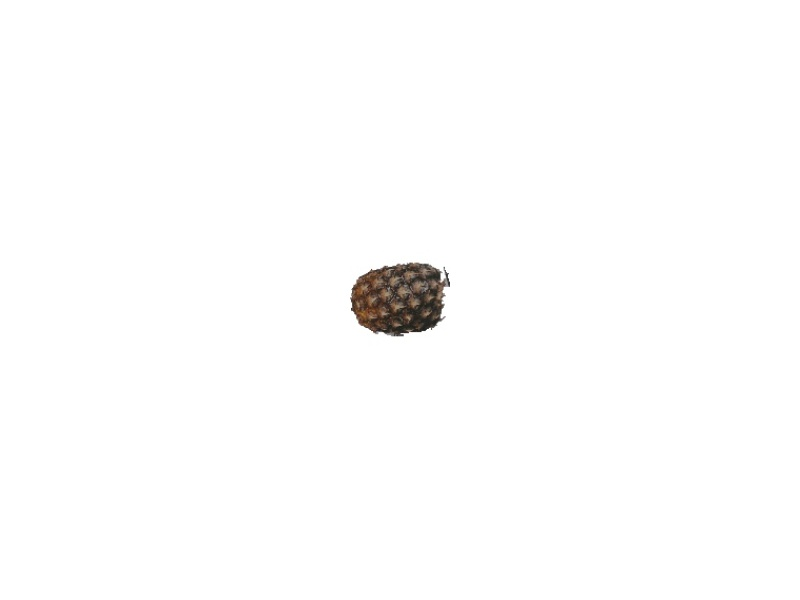abacaxi: (349, 260, 453, 340)
